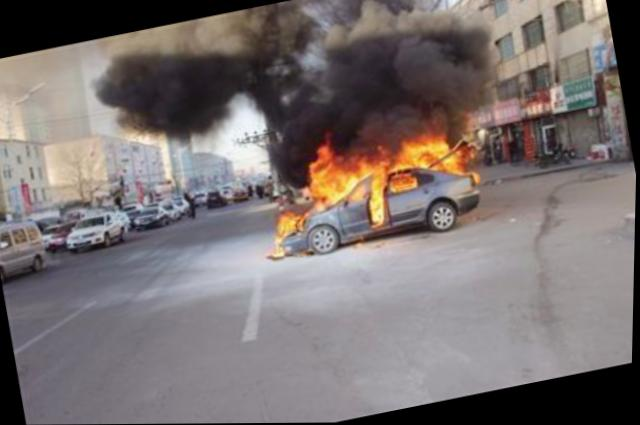fire: (303, 145, 342, 206), (392, 135, 444, 166), (363, 169, 388, 223), (338, 154, 370, 185), (434, 147, 466, 174), (271, 210, 296, 234), (385, 170, 414, 189)
